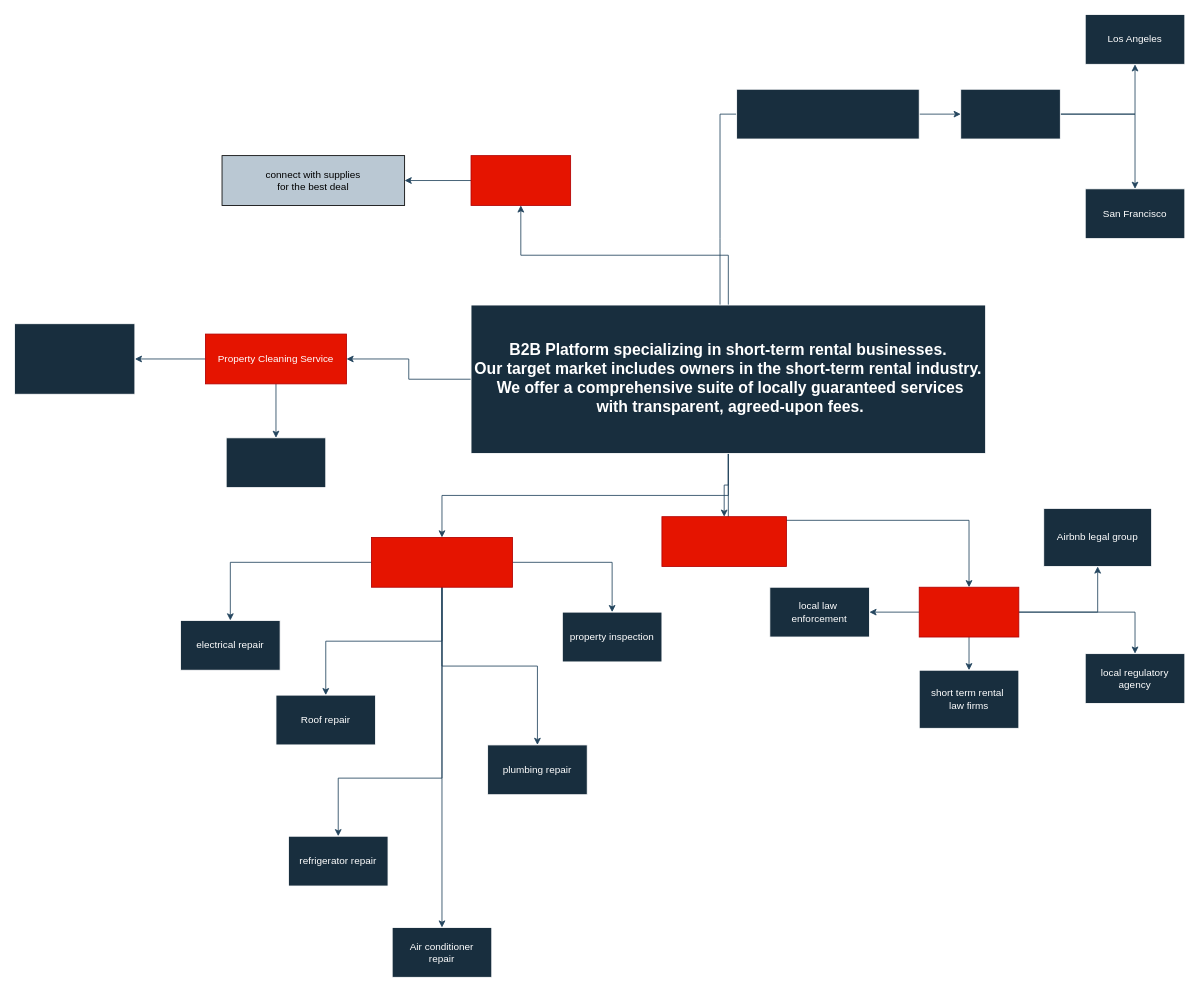
The diagram is 1199 pixels wide and 992 high, and some of its shapes have lost their labels. Each missing label, with the box of its shape:
Bnb Add-on: (736, 88, 919, 139)
cleaning contractors: (14, 323, 135, 394)
Cleaning Group: (225, 437, 326, 488)
Local Base: (960, 88, 1060, 139)
Property Maintenance: (371, 537, 513, 587)
Property Management Full Service: (661, 516, 786, 566)
Short term rental legal resource: (918, 586, 1019, 637)
Short term rental Supplies: (470, 155, 571, 205)
